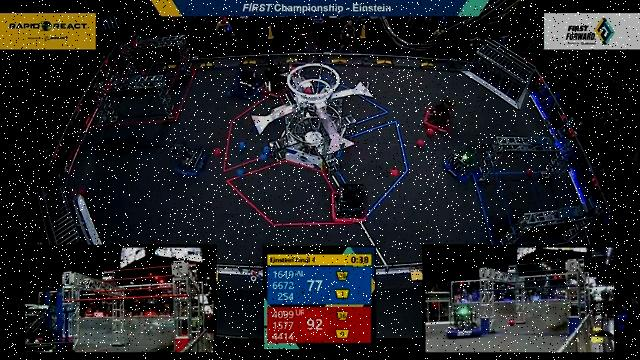Robot: (325, 179, 375, 224), (167, 135, 211, 177), (439, 142, 482, 184), (226, 59, 270, 100), (419, 91, 458, 133), (257, 63, 290, 96)
